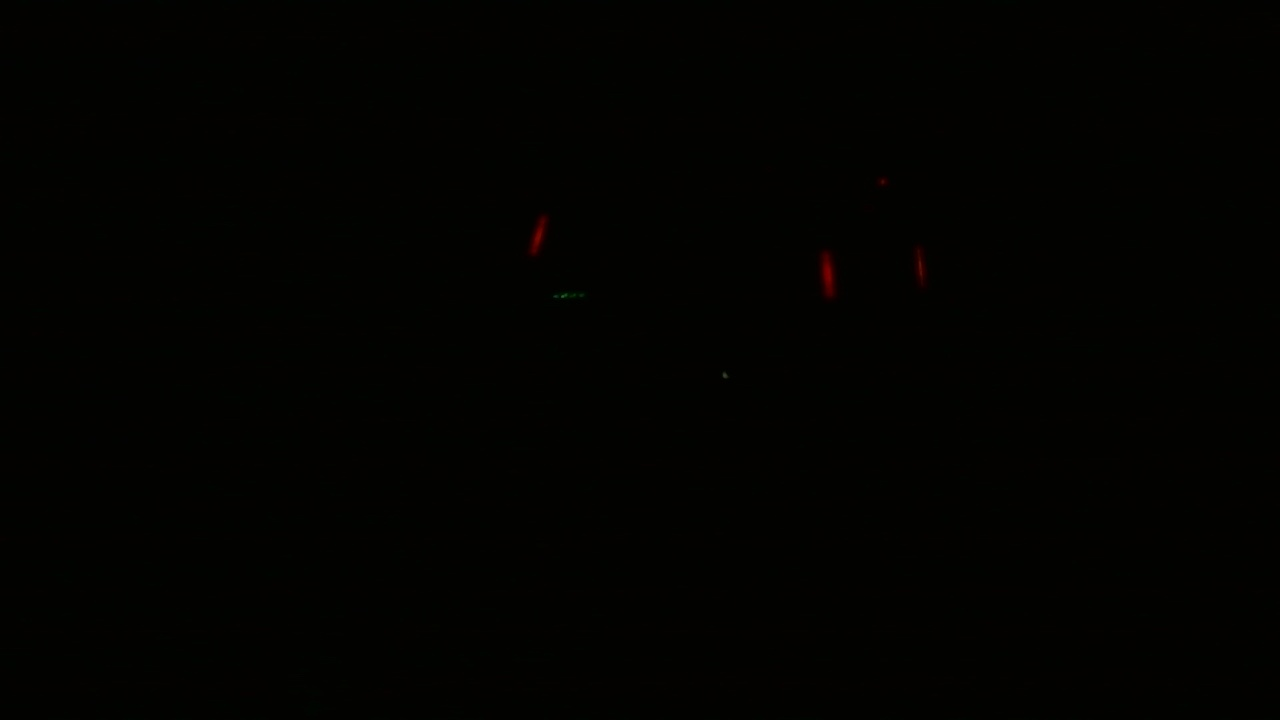pair1: (820, 249, 929, 303)
